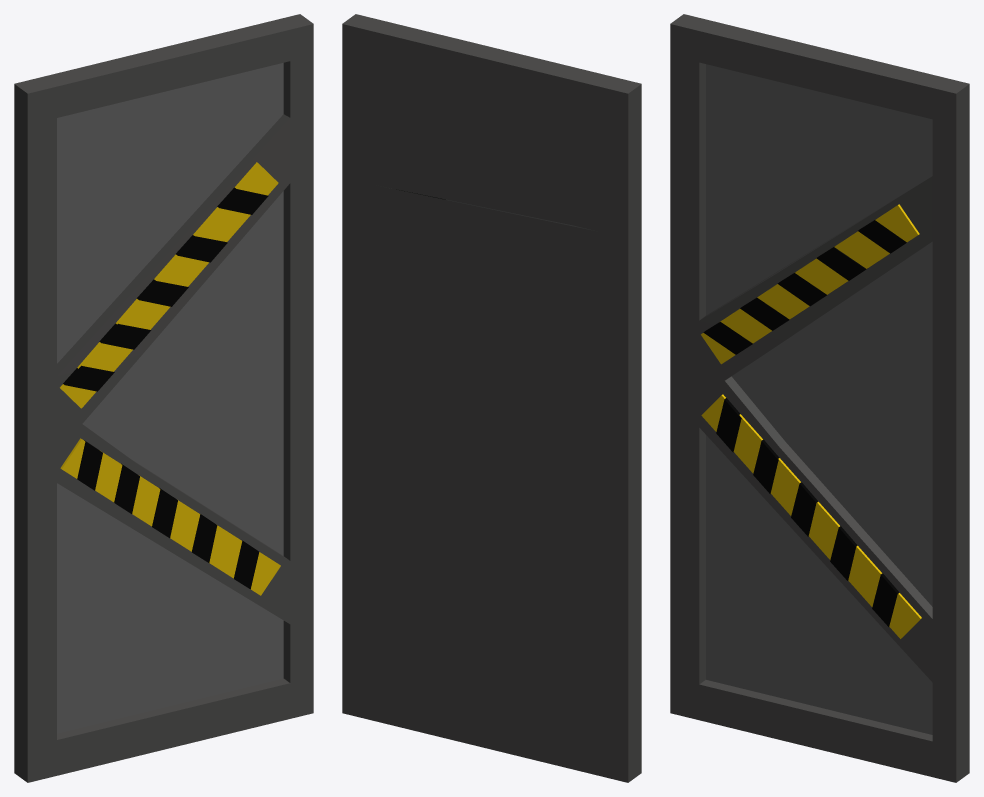
File: puerta_metal.fbx
3 views of the same model, side by side, from view 1: azimuth 30°, elevation 25°; view 2: azimuth 150°, elevation 25°; view 3: azimuth 330°, elevation 25° (orthographic).
Parts seen in each view (by area): view 1: Cubo.013, Cubo.012, Cube.001, Cube.002, Cubo.002, Cubo.003, Cubo.004, Cubo.001, Cubo.005, Cubo.008, Cubo.009, Cubo.010 (+2 smaller); view 2: Cubo.012; view 3: Cubo.013, Cubo.012, Cube.002, Cube.001, Cubo.007, Cubo.008, Cubo.009, Cubo.006, Cubo.010, Cubo.002, Cubo.003, Cubo.004 (+2 smaller).
Boxes of the visible parts, <box> form: Cubo.013: <box>57,63,283,733</box>; Cubo.012: <box>14,14,313,782</box>; Cube.001: <box>60,162,278,408</box>; Cube.002: <box>60,438,280,595</box>; Cubo.002: <box>176,235,227,262</box>; Cubo.003: <box>136,279,188,306</box>; Cubo.004: <box>99,323,151,349</box>; Cubo.001: <box>217,187,268,214</box>; Cubo.005: <box>63,365,114,391</box>; Cubo.008: <box>151,488,177,538</box>; Cubo.009: <box>114,463,139,513</box>; Cubo.010: <box>77,440,102,490</box>; Cubo.012: <box>342,14,641,782</box>; Cubo.013: <box>706,64,932,734</box>; Cubo.012: <box>670,14,969,782</box>; Cube.002: <box>701,394,921,638</box>; Cube.001: <box>701,204,919,364</box>; Cubo.007: <box>830,526,857,580</box>; Cubo.008: <box>791,482,818,536</box>; Cubo.009: <box>753,439,779,494</box>; Cubo.006: <box>872,573,899,626</box>; Cubo.010: <box>716,398,741,452</box>; Cubo.002: <box>816,246,867,280</box>; Cubo.003: <box>777,272,826,306</box>; Cubo.004: <box>740,297,789,330</box>.
Bounding box in the file's own units: 179 × 411 × 16.88.
